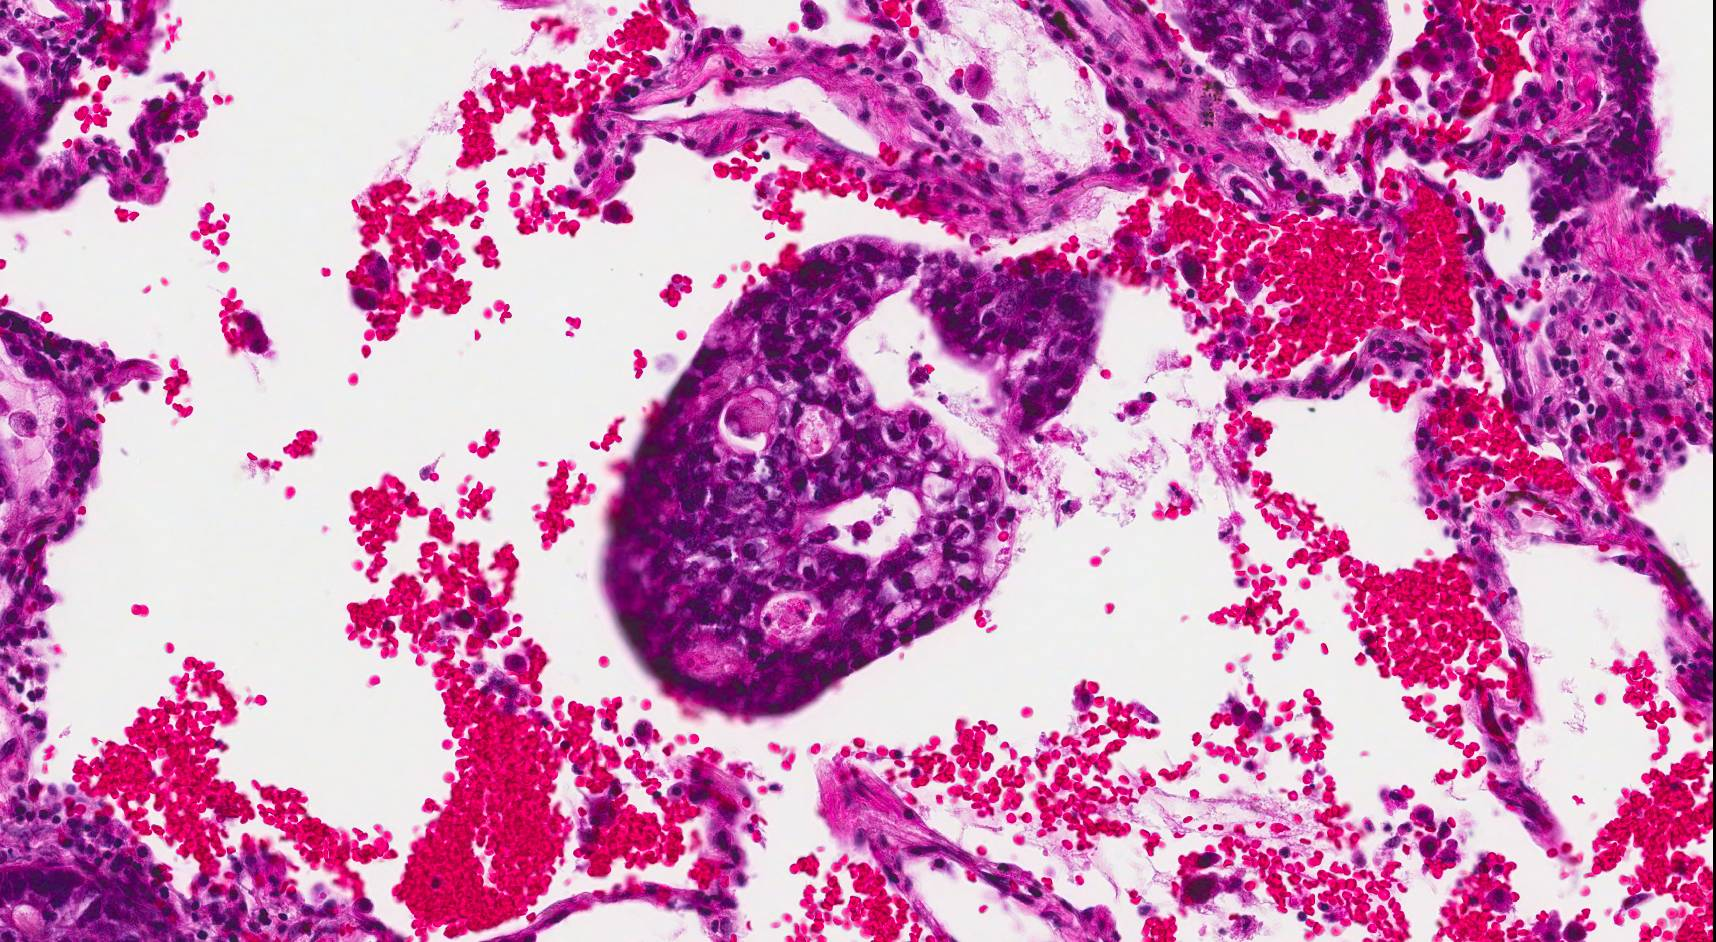stas: (595, 234, 1113, 727)
